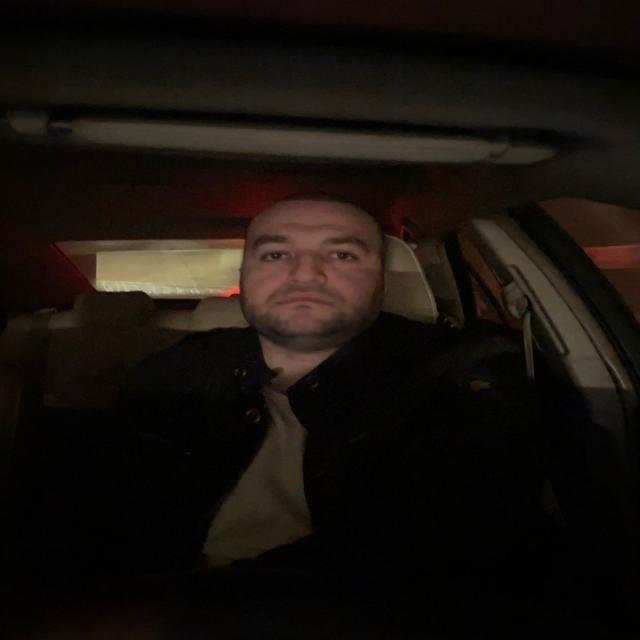person: (232, 194, 400, 354)
